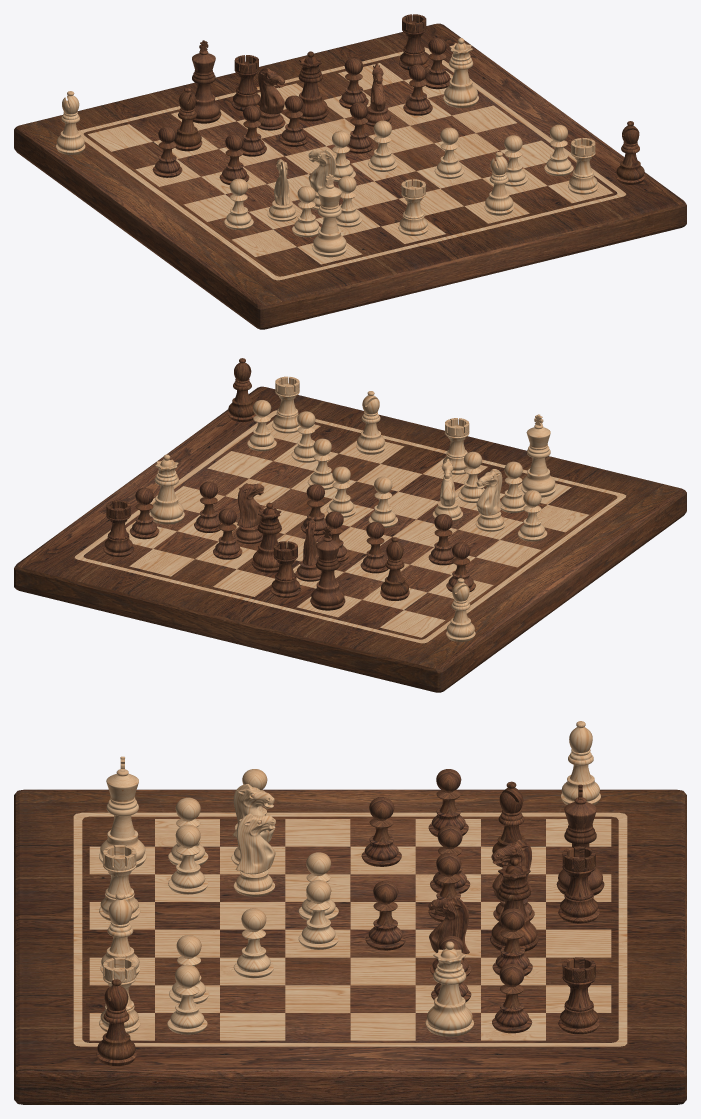
Rendered from wooden_chess_board.glb.
3 renders of one model, top to bottom at view 1: azimuth 30°, elevation 25°; view 2: azimuth 150°, elevation 25°; view 3: azimuth 270°, elevation 25°, orthographic. The views are drawn at different scales.
Parts seen in each view (by area): view 1: Chess Board _17, White King_20, Black King_3, White Queen_31, Black Queen _14, Black Knight .001_5, White Rook.001_33, White Rook_32, Black Rook .001_16, Black Rook _15, White Bishop .001_19, Black Bishop .001_2 (+21 smaller); view 2: Chess Board _17, Black King_3, White King_20, White Queen_31, White Knight .001_22, Black Queen _14, Black Knight _4, Black Rook .001_16, Black Rook _15, White Rook.001_33, White Bishop _18, Black Bishop _1 (+21 smaller); view 3: Chess Board _17, White Queen_31, White Knight _21, White King_20, Black Rook .001_16, Black Rook _15, Black Bishop .001_2, Black Queen _14, White Bishop _18, Black King_3, White Rook_32, White Pawn.002_25 (+19 smaller).
Boxes of the visible parts, x1,y1,x2,y2 form: Chess Board _17: (14, 23, 686, 329); White King_20: (312, 174, 347, 257); Black King_3: (192, 40, 221, 123); White Queen_31: (443, 38, 478, 107); Black Queen _14: (298, 51, 328, 121); Black Knight .001_5: (257, 68, 285, 130); White Rook.001_33: (568, 138, 598, 194); White Rook_32: (398, 179, 428, 235); Black Rook .001_16: (399, 14, 429, 70); Black Rook _15: (231, 55, 260, 111); White Bishop .001_19: (484, 151, 513, 215); Black Bishop .001_2: (615, 121, 645, 184); Chess Board _17: (14, 386, 686, 692); Black King_3: (310, 527, 345, 610); White King_20: (521, 414, 556, 497); White Queen_31: (149, 454, 184, 524); White Knight .001_22: (475, 469, 505, 531); Black Queen _14: (251, 502, 281, 572); Black Knight _4: (234, 483, 264, 543); Black Rook .001_16: (103, 500, 133, 557); Black Rook _15: (270, 541, 300, 597); White Rook.001_33: (272, 376, 300, 433); White Bishop _18: (446, 578, 475, 641); Black Bishop _1: (380, 537, 409, 600); Chess Board _17: (14, 789, 686, 1104); White Queen_31: (425, 941, 473, 1036); White Knight _21: (233, 813, 275, 896); White King_20: (99, 756, 146, 867); Black Rook .001_16: (558, 957, 599, 1034); Black Rook _15: (558, 846, 599, 923); Black Bishop .001_2: (96, 979, 136, 1065); Black Queen _14: (490, 857, 538, 951); White Bishop _18: (560, 721, 600, 805); Black King_3: (556, 784, 604, 895); White Rook_32: (99, 844, 140, 920); White Pawn.002_25: (168, 824, 208, 894).
Bounding box in the file's own units: 0.3952 × 0.0898 × 0.3952.
2 materials, 2 textured.
